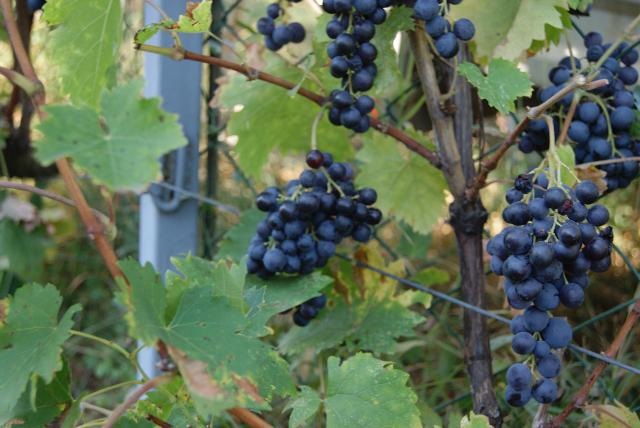grapes: (488, 171, 612, 408), (246, 150, 382, 280), (559, 31, 640, 194), (322, 0, 394, 132)
